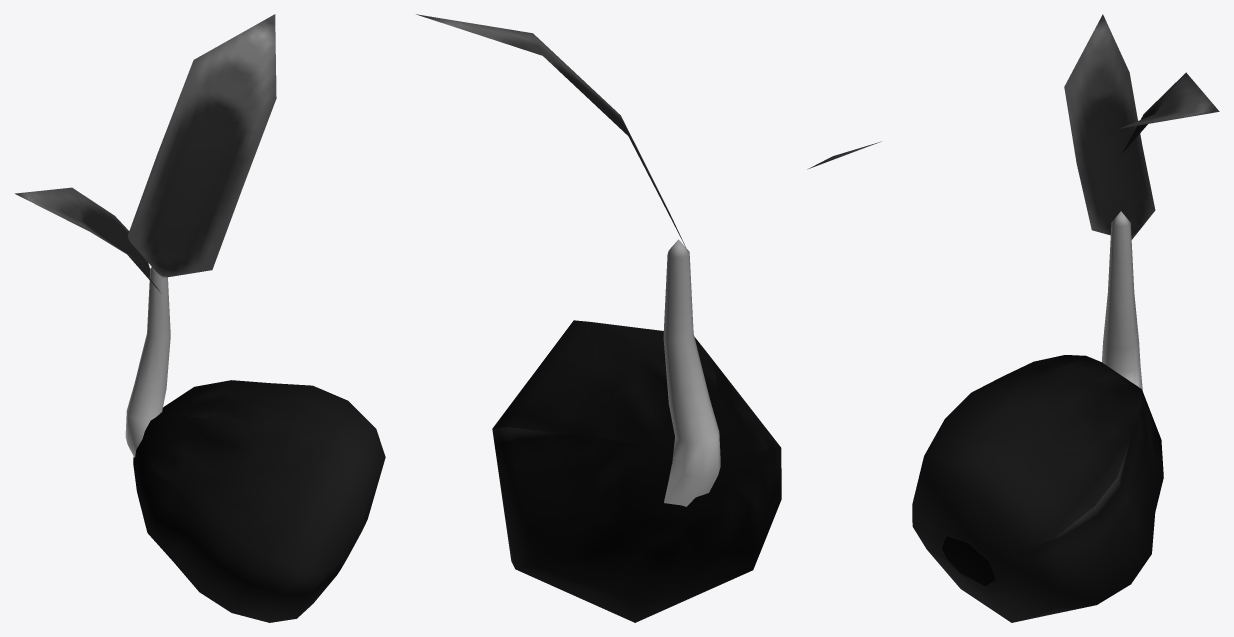
The model's file is PltTreePalm0.glb.
The picture shows the model from 3 angles, left to right: view 1: azimuth 30°, elevation 25°; view 2: azimuth 150°, elevation 25°; view 3: azimuth 270°, elevation 25°; orthographic projection. The views are drawn at different scales.
Visible parts, largest first — view 1: PltFruitCoconut__mPltTreePalmTrunk, La050__mPltTreePalmLeaf; view 2: PltFruitCoconut__mPltTreePalmTrunk, La050__mPltTreePalmLeaf; view 3: PltFruitCoconut__mPltTreePalmTrunk, La050__mPltTreePalmLeaf.
Boxes of the visible parts, x1,y1,x2,y2 form: PltFruitCoconut__mPltTreePalmTrunk: (133,380,385,622); La050__mPltTreePalmLeaf: (15,14,276,457); PltFruitCoconut__mPltTreePalmTrunk: (492,320,781,622); La050__mPltTreePalmLeaf: (416,14,880,506); PltFruitCoconut__mPltTreePalmTrunk: (912,355,1163,622); La050__mPltTreePalmLeaf: (1064,14,1219,391).
Size of the model in its own units: 6.44 by 9.71 by 4.94.
Materials: 2 (2 with a texture image).
